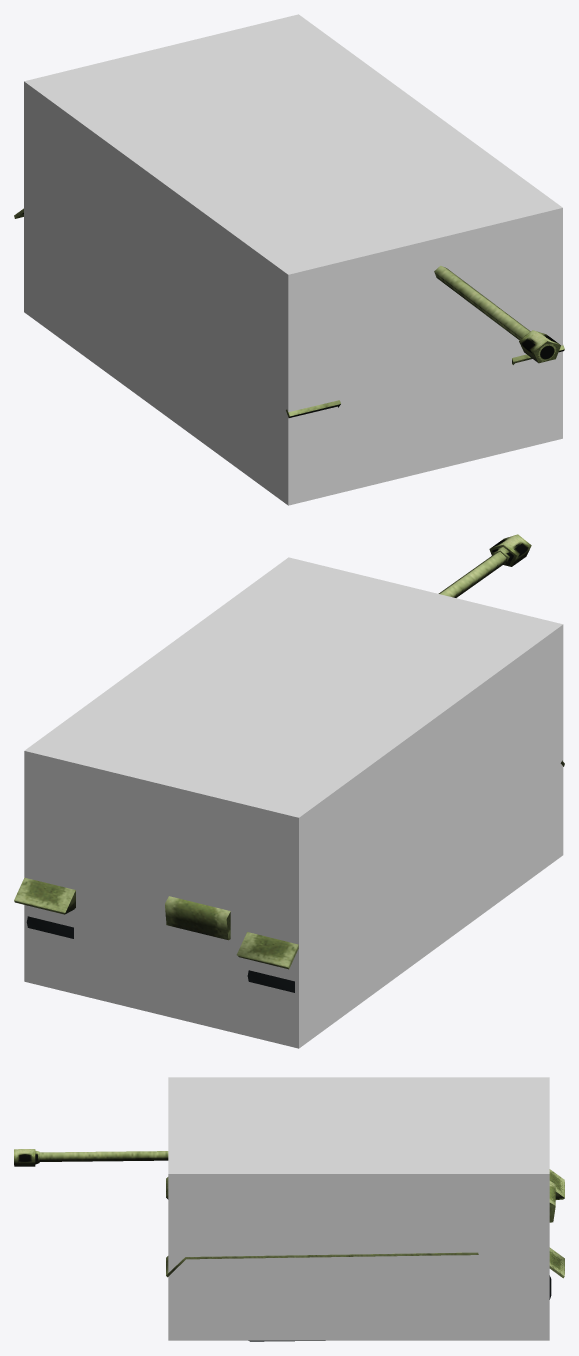
The model's file is marderIIPaintedAABB.glb.
3 renders of one model, top to bottom at view 1: azimuth 30°, elevation 25°; view 2: azimuth 150°, elevation 25°; view 3: azimuth 270°, elevation 25°, orthographic. The views are drawn at different scales.
Parts seen in each view (by area): view 1: aabbBox, Marder II; view 2: aabbBox, Marder II; view 3: aabbBox, Marder II.
Part boxes in pixels (x1=…): aabbBox: x1=24, y1=14, x2=562, y2=505; Marder II: x1=14, y1=208, x2=564, y2=417; aabbBox: x1=24, y1=557, x2=563, y2=1048; Marder II: x1=14, y1=534, x2=564, y2=992; aabbBox: x1=168, y1=1077, x2=549, y2=1340; Marder II: x1=14, y1=1149, x2=564, y2=1341.
Size of the model in its own units: 28.02 by 22.76 by 67.34.
Materials: 2 (1 with a texture image).
